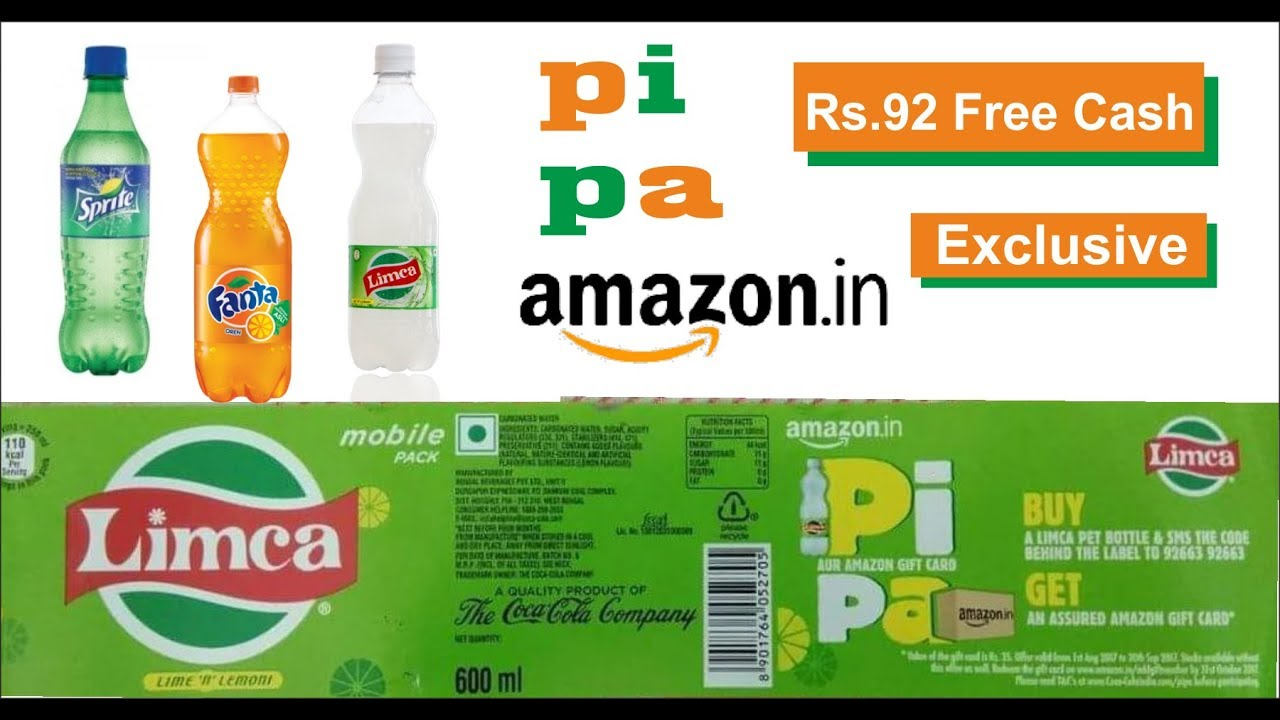fanta: (199, 84, 294, 397)
